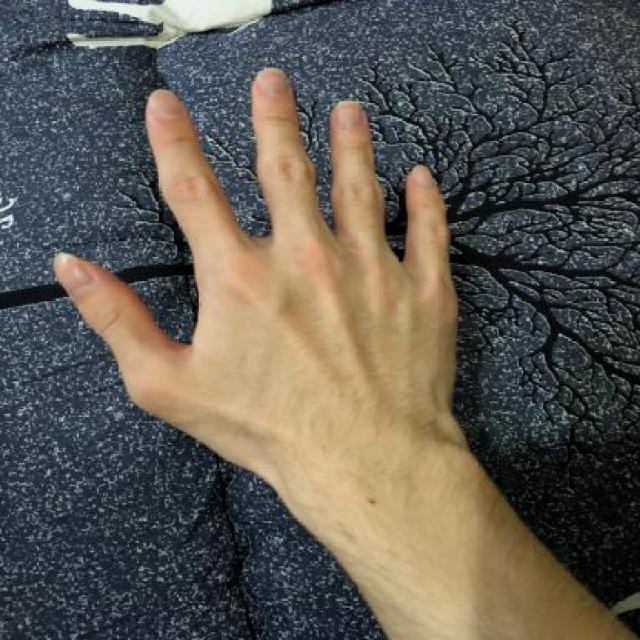no_glove: (37, 39, 472, 512)
